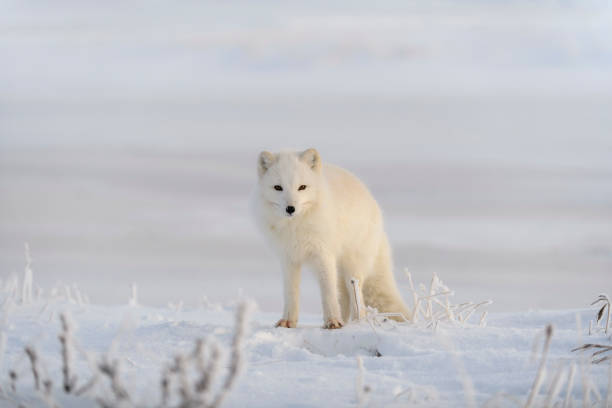arcticfox: (259, 154, 319, 239)
